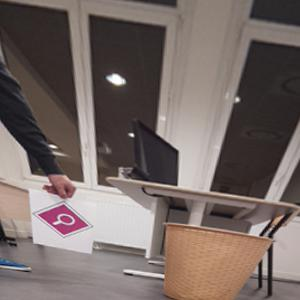search: (33, 198, 94, 240)
